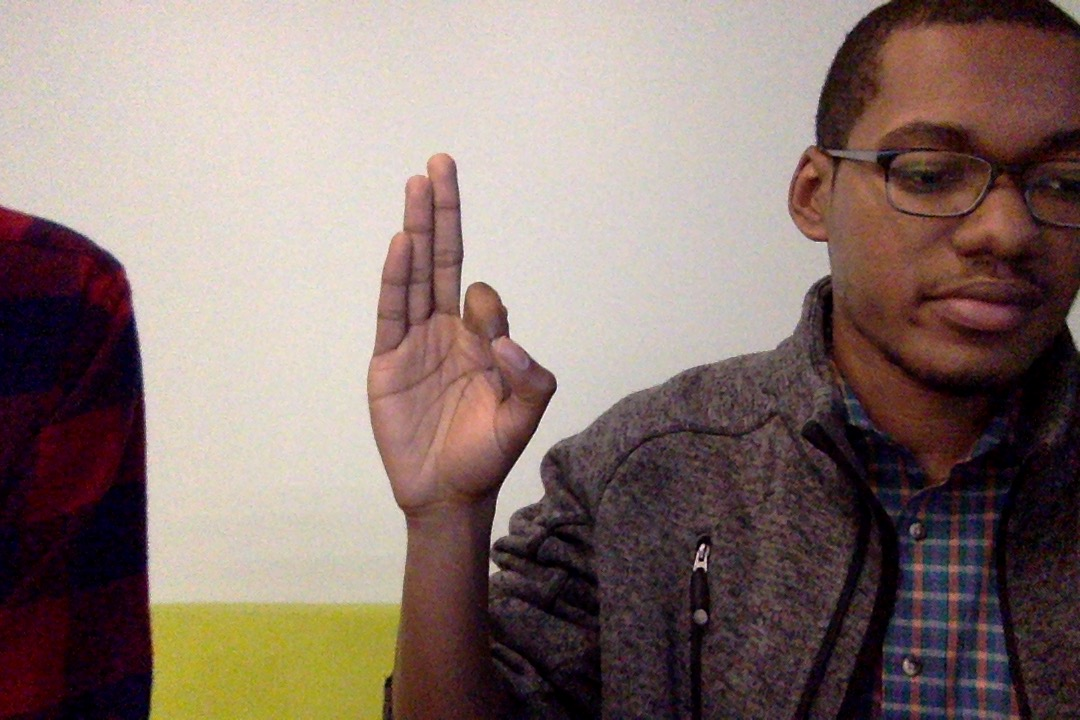f: (351, 142, 564, 534)
